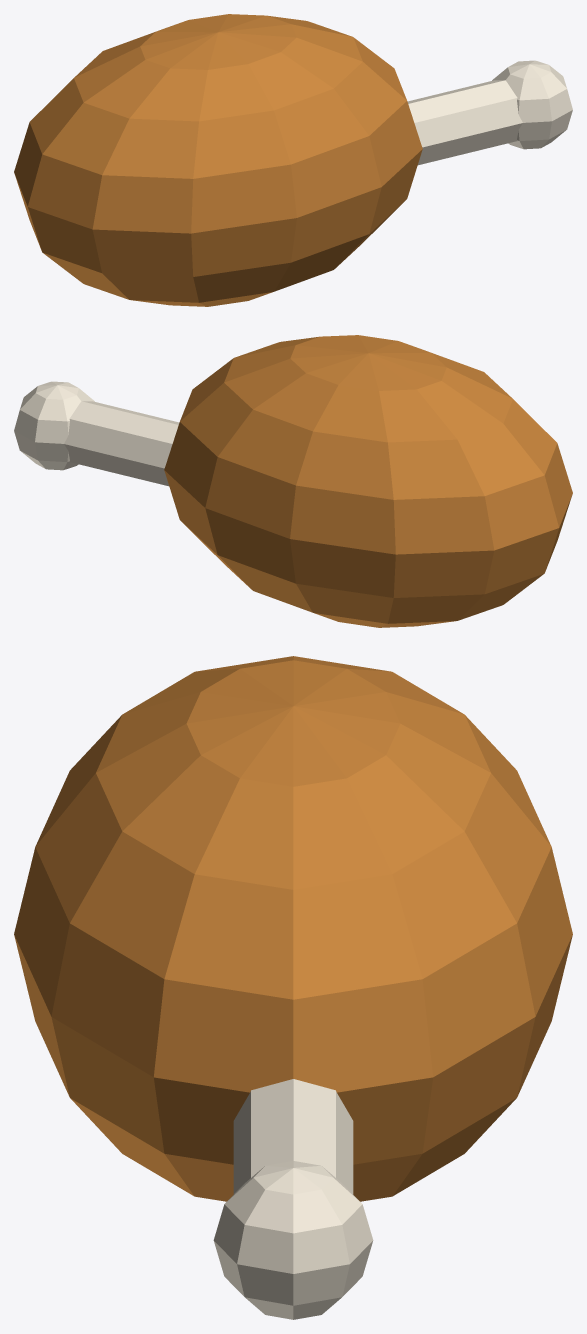
File: chicken_leg.fbx
The picture shows the model from 3 angles, top to bottom: view 1: azimuth 30°, elevation 25°; view 2: azimuth 150°, elevation 25°; view 3: azimuth 270°, elevation 25°; orthographic projection. The views are drawn at different scales.
Parts seen in each view (by area): view 1: chicken_leg; view 2: chicken_leg; view 3: chicken_leg.
Part boxes in pixels (x1=…): chicken_leg: x1=14, y1=14, x2=572, y2=306; chicken_leg: x1=14, y1=335, x2=572, y2=627; chicken_leg: x1=14, y1=656, x2=572, y2=1319.
Size of the model in its own units: 0.278 by 0.126 by 0.14.
